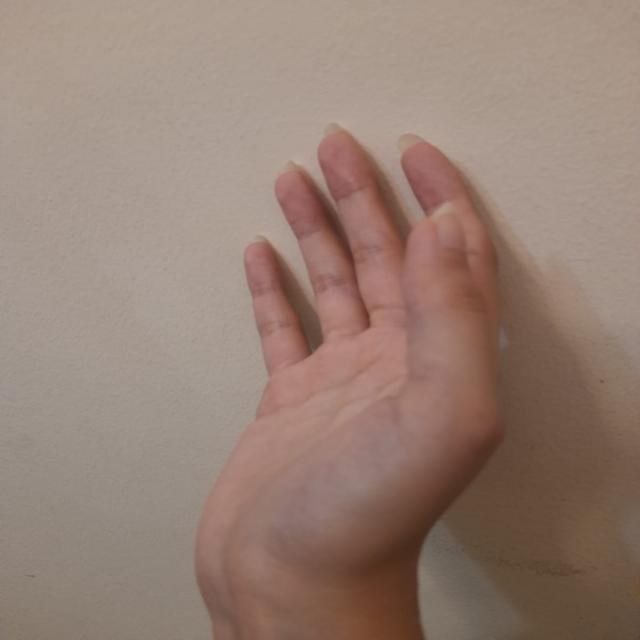Open Hand: (192, 135, 505, 606)
